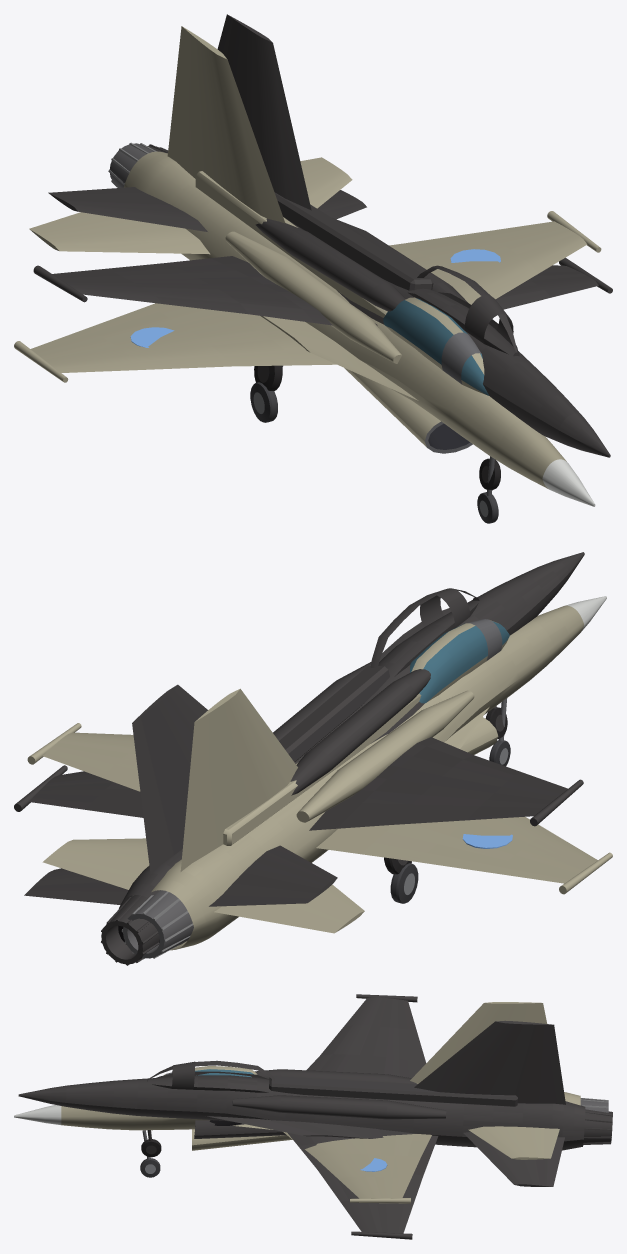
The model's file is jet__f_16i_sufa.glb.
3 views of the same model, one above another, from view 1: azimuth 30°, elevation 25°; view 2: azimuth 150°, elevation 25°; view 3: azimuth 270°, elevation 25° (orthographic). The views are drawn at different scales.
Parts seen in each view (by area): view 1: Fuselage_Mesh, Wreck; view 2: Fuselage_Mesh, Wreck; view 3: Wreck, Fuselage_Mesh.
Boxes of the visible parts, x1,y1,x2,y2 form: Fuselage_Mesh: (14, 26, 601, 523); Wreck: (33, 14, 612, 490); Fuselage_Mesh: (27, 596, 612, 959); Wreck: (14, 552, 584, 965); Wreck: (18, 994, 612, 1239); Fuselage_Mesh: (14, 1002, 608, 1203).
Size of what is drawn, in the model's own units: 10.4 by 4.88 by 15.2.
